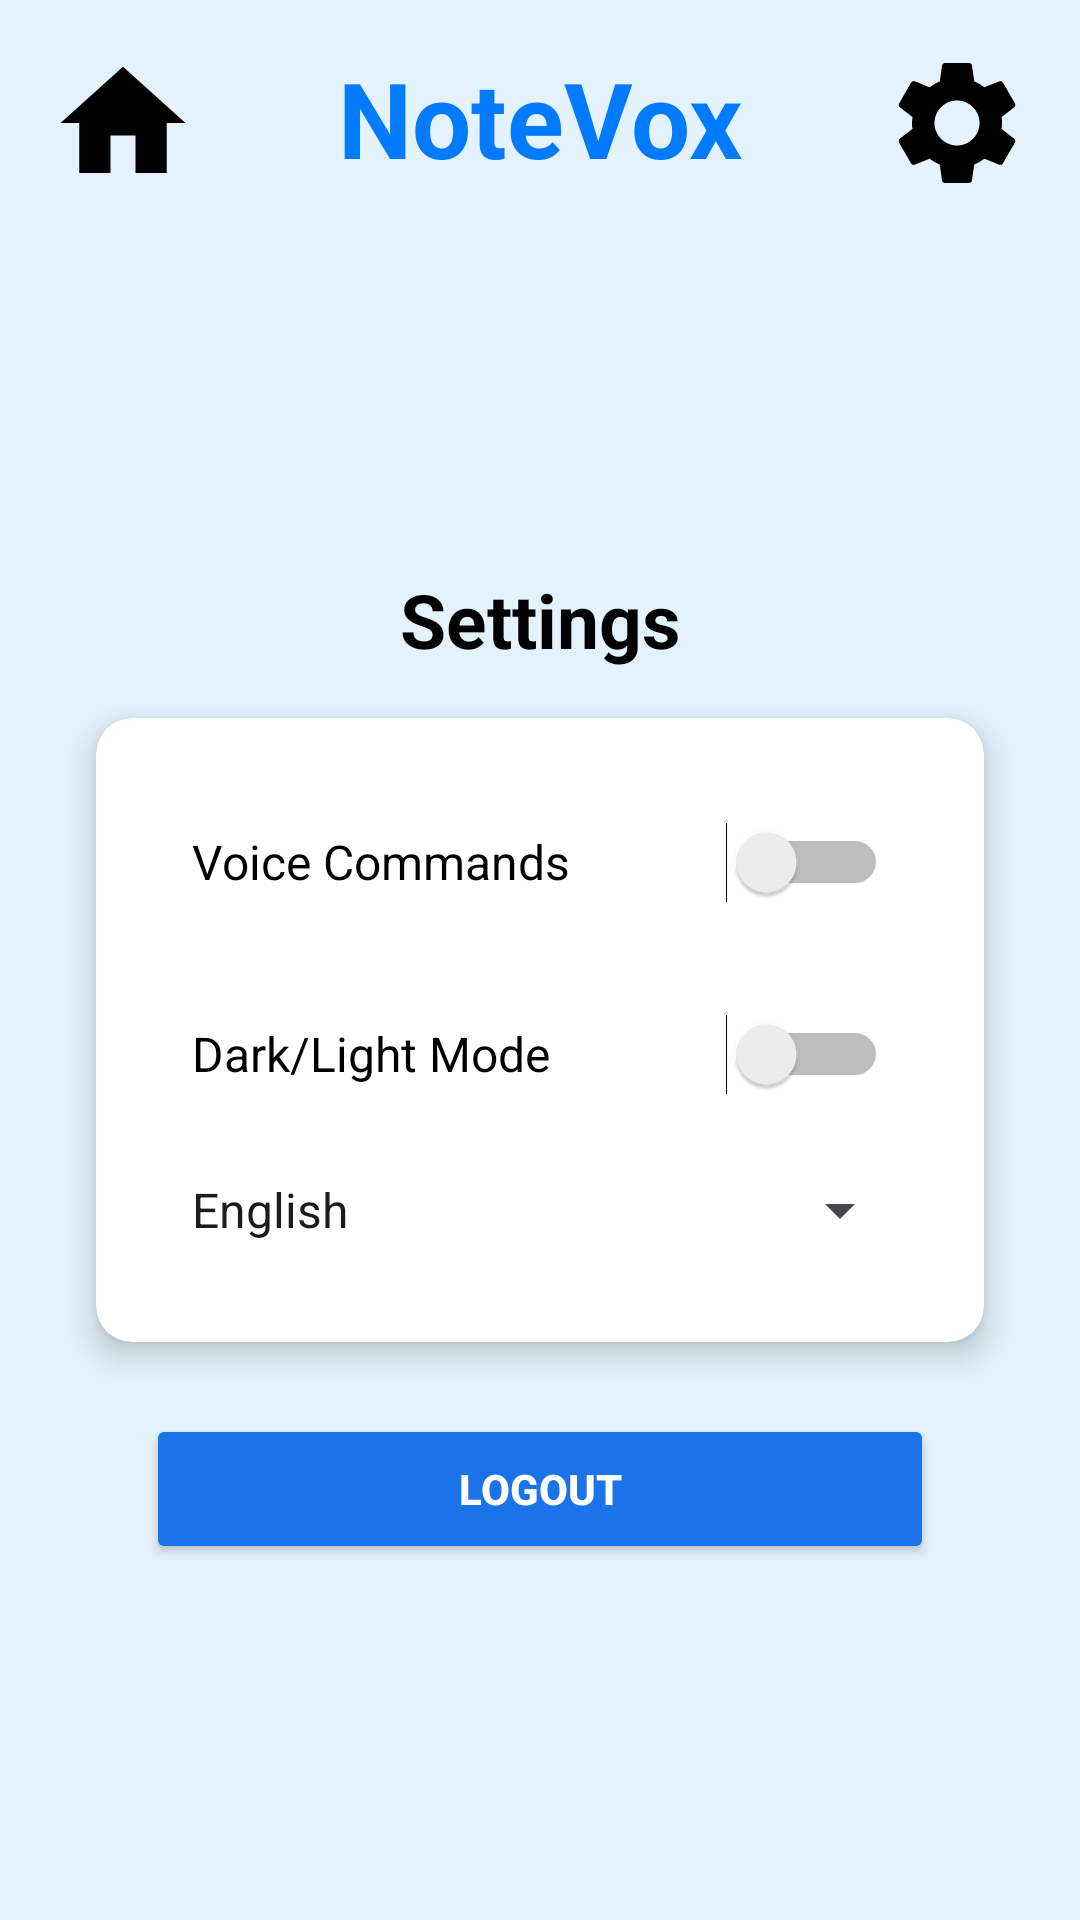

Screen size 1080 x 1920. Icon name, then its center in pixels as point (x, y):
Go to the home page: point (123, 120)
Go to the setting page: point (957, 123)
